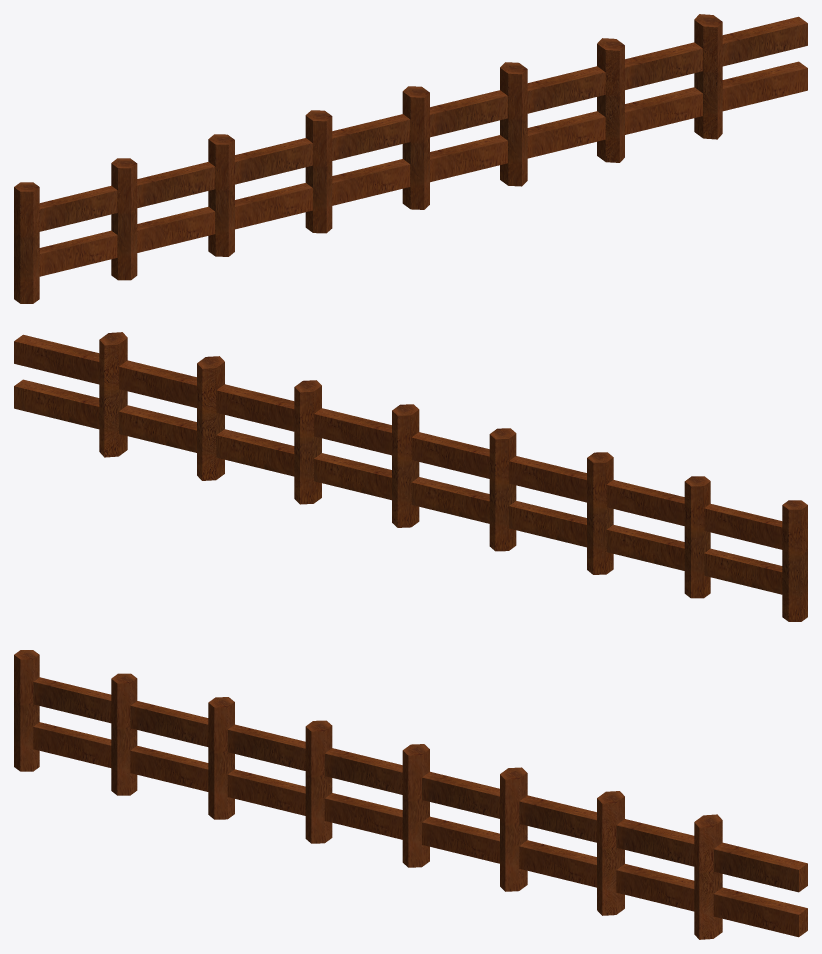
Rendered from Railings_001.fbx.
3 renders of one model, top to bottom at view 1: azimuth 30°, elevation 25°; view 2: azimuth 150°, elevation 25°; view 3: azimuth 330°, elevation 25°, orthographic.
Visible parts, largest first — view 1: Cylinder.005; view 2: Cylinder.005; view 3: Cylinder.005.
Boxes of the visible parts, x1,y1,x2,y2 form: Cylinder.005: [14, 14, 807, 303]; Cylinder.005: [14, 332, 807, 621]; Cylinder.005: [14, 650, 807, 939].
Bounding box in the file's own units: 1025 × 140 × 41.16.
